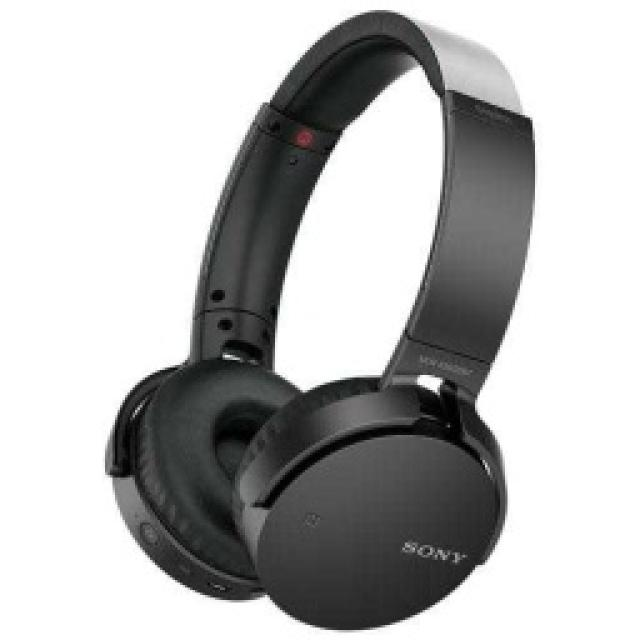headphones: (102, 8, 538, 630)
